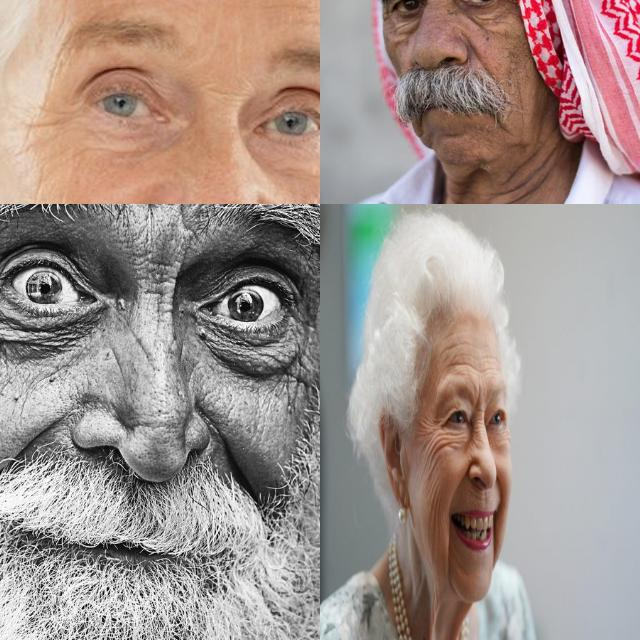bunny_line: (126, 327, 160, 371), (108, 343, 132, 381)
crows_feet: (28, 100, 64, 132), (426, 417, 444, 452)
forehead: (444, 339, 479, 374), (104, 0, 203, 9), (287, 0, 320, 19), (483, 352, 498, 377)
frown_line: (140, 259, 178, 309), (203, 78, 245, 100), (137, 204, 166, 228), (476, 386, 486, 417)
gummy_smile: (14, 410, 58, 464), (204, 408, 242, 468), (464, 34, 484, 68), (451, 462, 467, 501), (495, 472, 504, 506)
masseter: (424, 471, 441, 516)
sad_smile: (444, 534, 452, 572), (491, 516, 497, 561)
smoker_lines: (472, 485, 491, 504)
